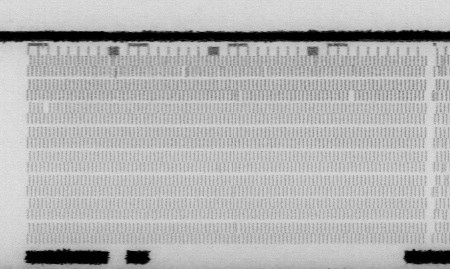Broken hole: (347, 90, 358, 103), (41, 102, 52, 113)
Oblique printing: (432, 53, 450, 244), (105, 55, 122, 80), (234, 90, 247, 104), (178, 65, 191, 78), (258, 65, 271, 78), (232, 222, 245, 235), (308, 54, 320, 68)
